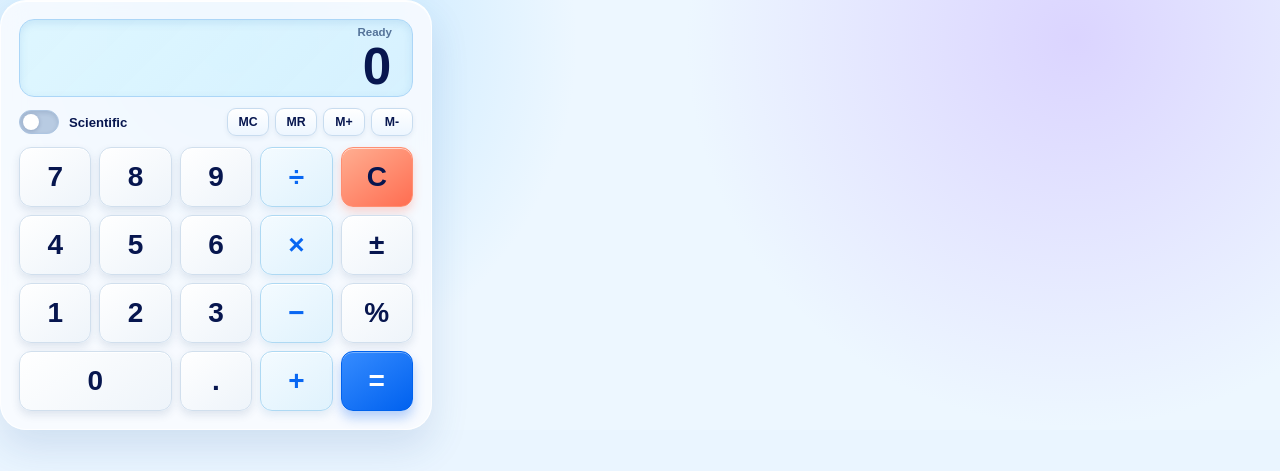
Calculator › accepts button input and displays the result
Click the button "7" at x=55, y=177, box [19,147,91,207]
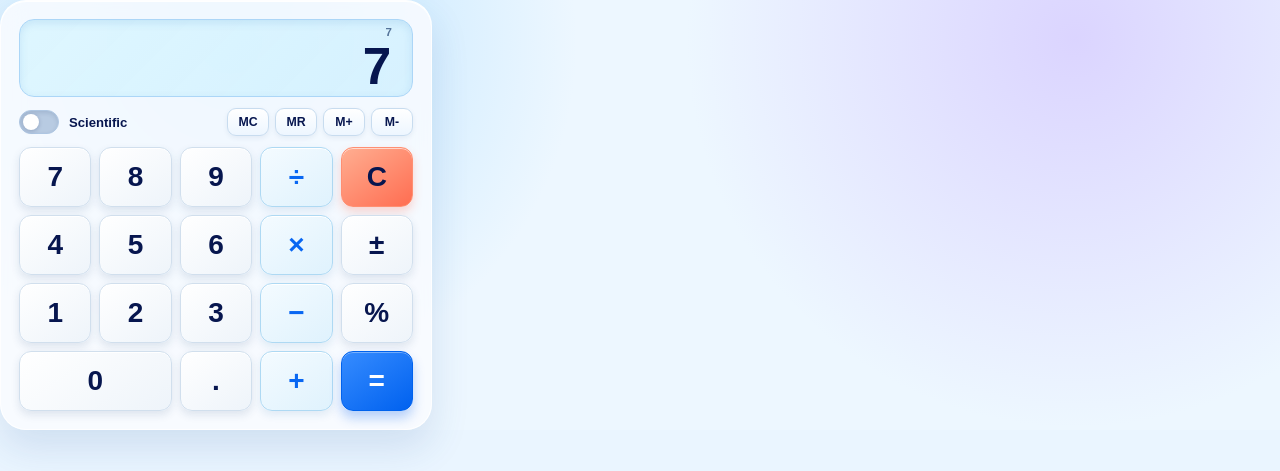
Click the button named "Add" at x=296, y=381, box [260,351,333,411]
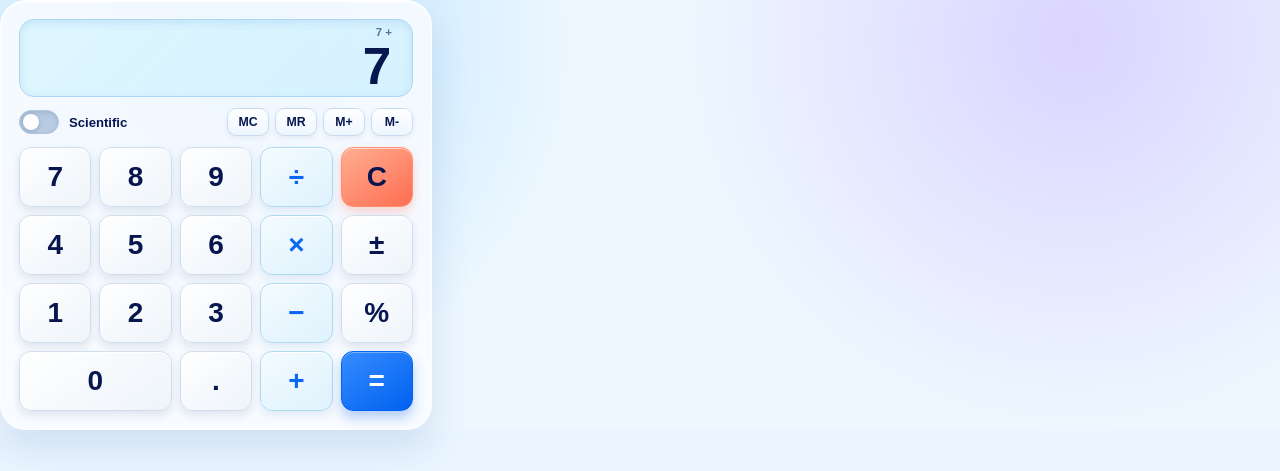
Click the button "5" at x=136, y=245, box [99,215,172,275]
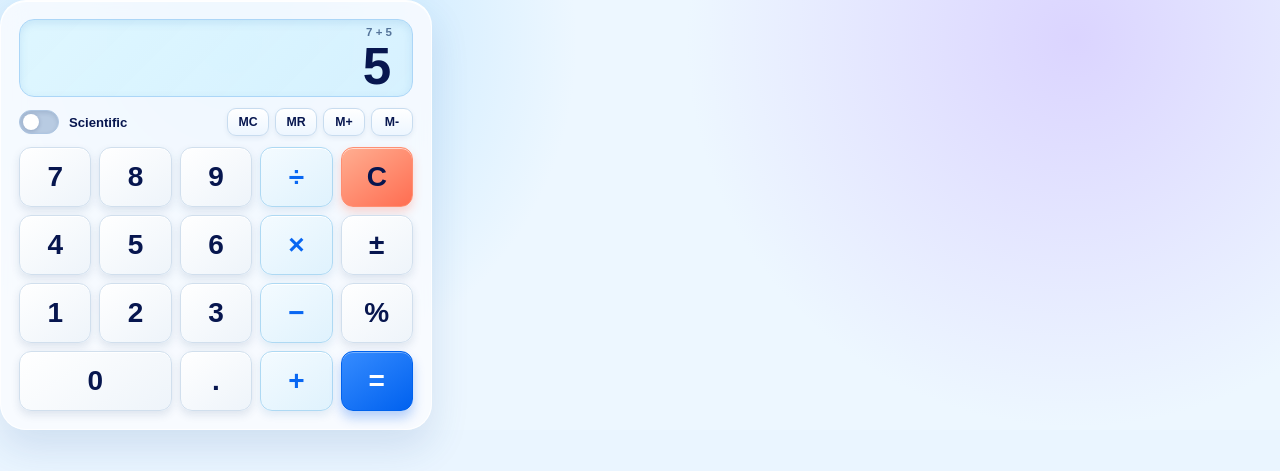
Click the button named "Equals" at x=377, y=381, box [341,351,413,411]
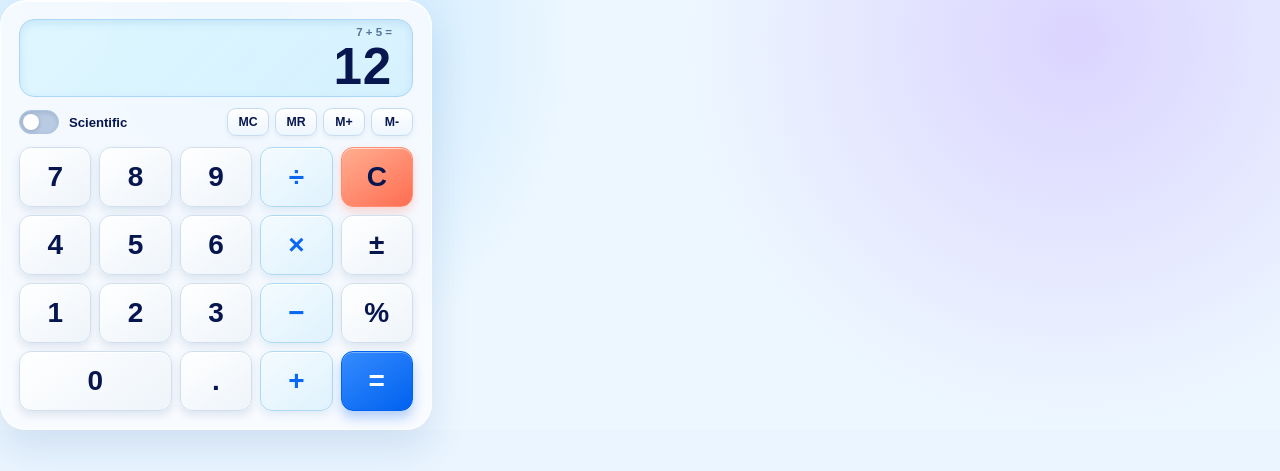
Result: the message shows "12" at [334,38,392,95]
